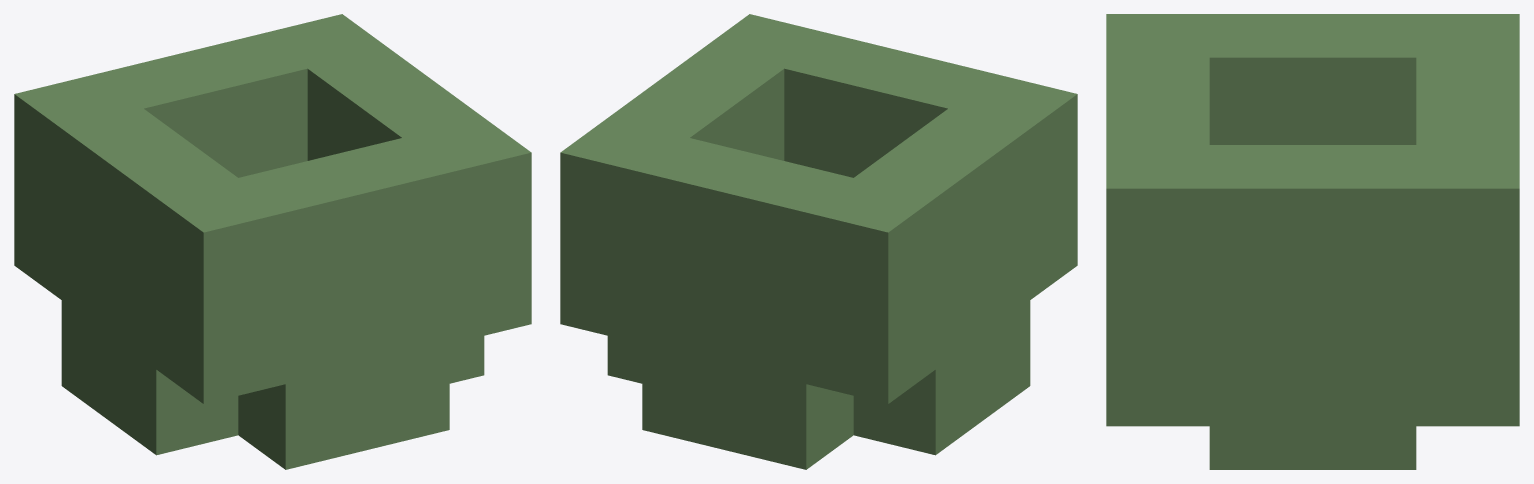
The model's file is Bowl.obj.
The picture shows the model from 3 angles, left to right: view 1: azimuth 30°, elevation 25°; view 2: azimuth 150°, elevation 25°; view 3: azimuth 270°, elevation 25°; orthographic projection. The views are drawn at different scales.
Visible parts, largest first — view 1: Bowl; view 2: Bowl; view 3: Bowl.
Part boxes in pixels (box(x1,y1,x2,y2)): Bowl: box(14, 14, 531, 469); Bowl: box(560, 14, 1077, 469); Bowl: box(1106, 14, 1519, 469).
Size of the model in its own units: 4 by 3 by 4.
1 material, 1 textured.
